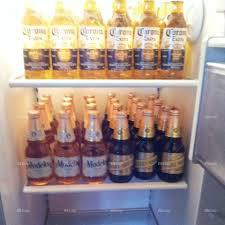beer: (23, 91, 185, 185), (24, 1, 189, 78)
